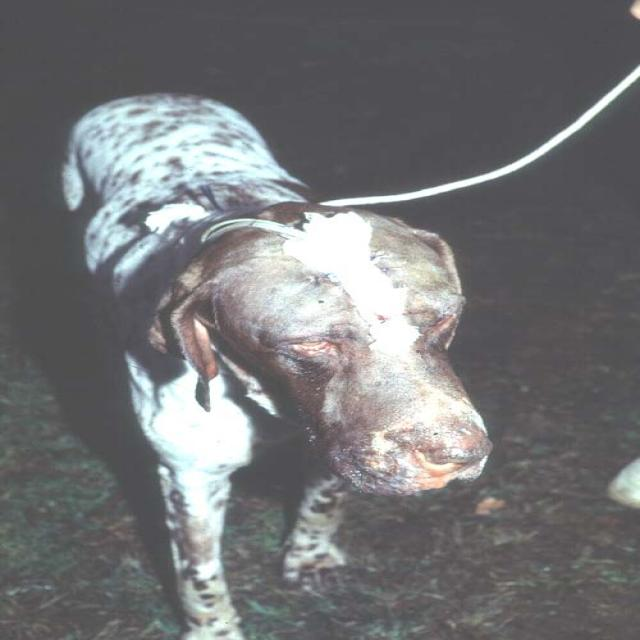fungal infection: (355, 432, 408, 493), (284, 324, 352, 362), (404, 451, 463, 483)
